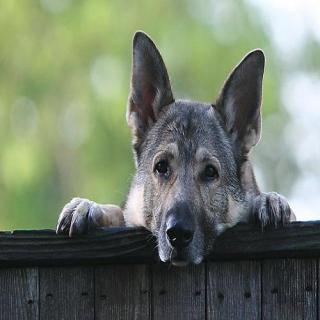dog: (116, 22, 271, 275)
nose: (162, 208, 196, 253)
